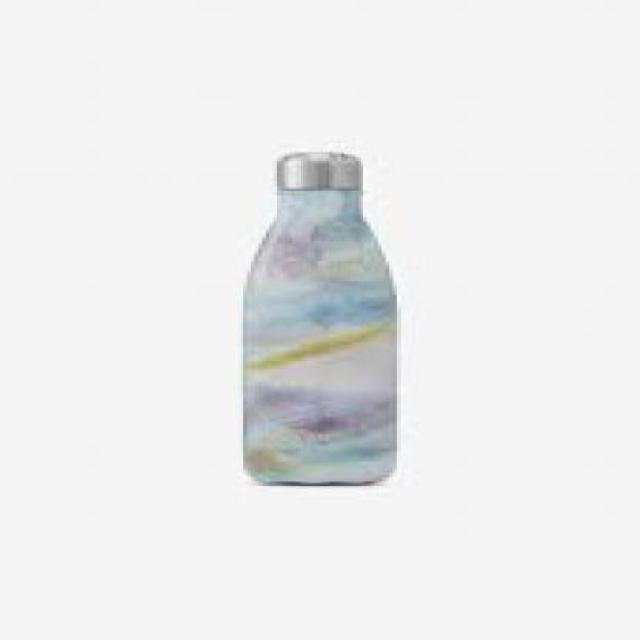Drinking: (198, 103, 457, 514)
